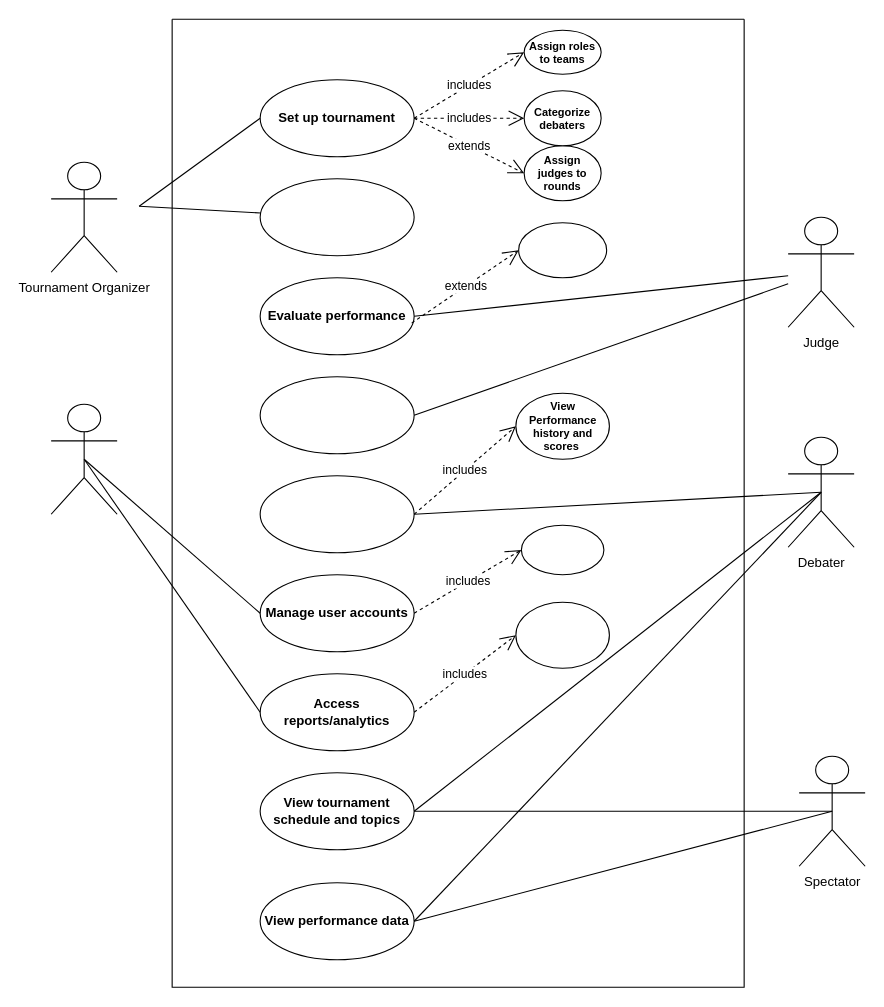
Some shapes in this 884 by 1007 pixel diagram are drawn without their labels. The shapes that lost their labels are listed below. From the top down, each one's centre as x and y in pixels, then its label:
(336,217): Manage tournament schedules and topics
(562,250): Assign Feedback
(336,415): Assign scores ("speaks")
(83,458): Administator
(336,514): Participate in rounds
(562,549): Categorize Users
(562,634): View Historical performance data
